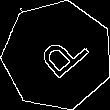P_SW: (26, 25, 89, 86)
